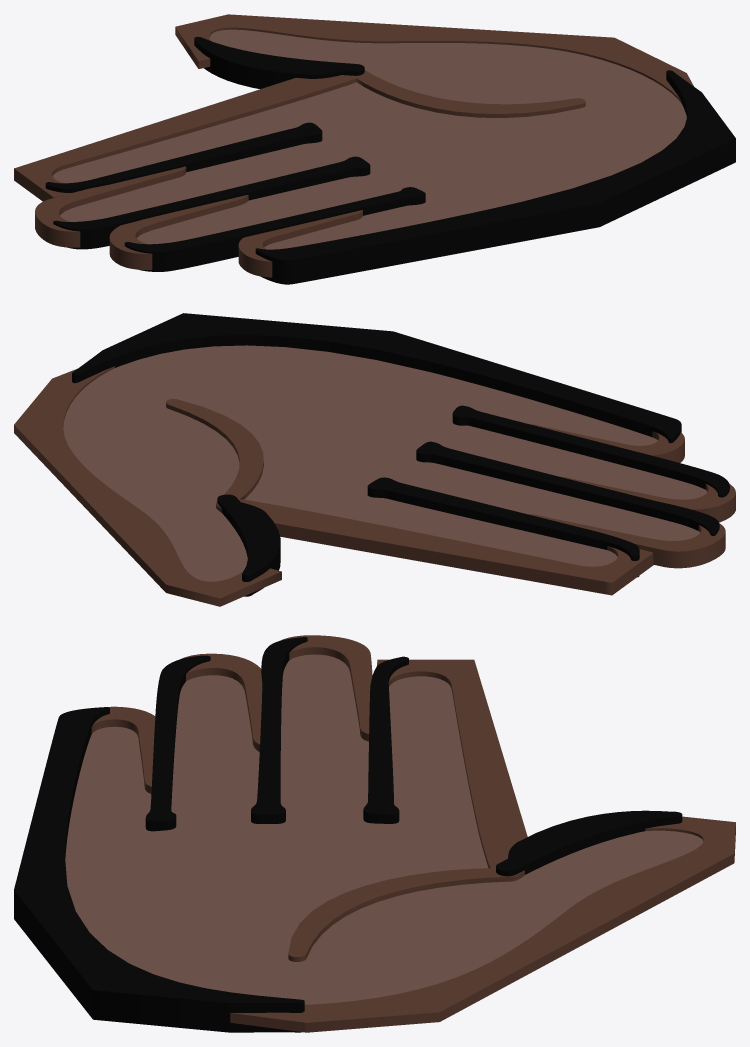
The model's file is emoji_u1faf2_1f3ff.glb.
3 renders of one model, top to bottom at view 1: azimuth 30°, elevation 25°; view 2: azimuth 150°, elevation 25°; view 3: azimuth 270°, elevation 25°, orthographic. The views are drawn at different scales.
Visible parts, largest first — view 1: emoji_u1faf2_1f3ff; view 2: emoji_u1faf2_1f3ff; view 3: emoji_u1faf2_1f3ff.
Boxes of the visible parts, x1,y1,x2,y2 form: emoji_u1faf2_1f3ff: [14, 14, 735, 284]; emoji_u1faf2_1f3ff: [14, 313, 735, 606]; emoji_u1faf2_1f3ff: [14, 635, 735, 1032].
Size of the model in its own units: 0.0334 by 0.0012 by 0.0267.
